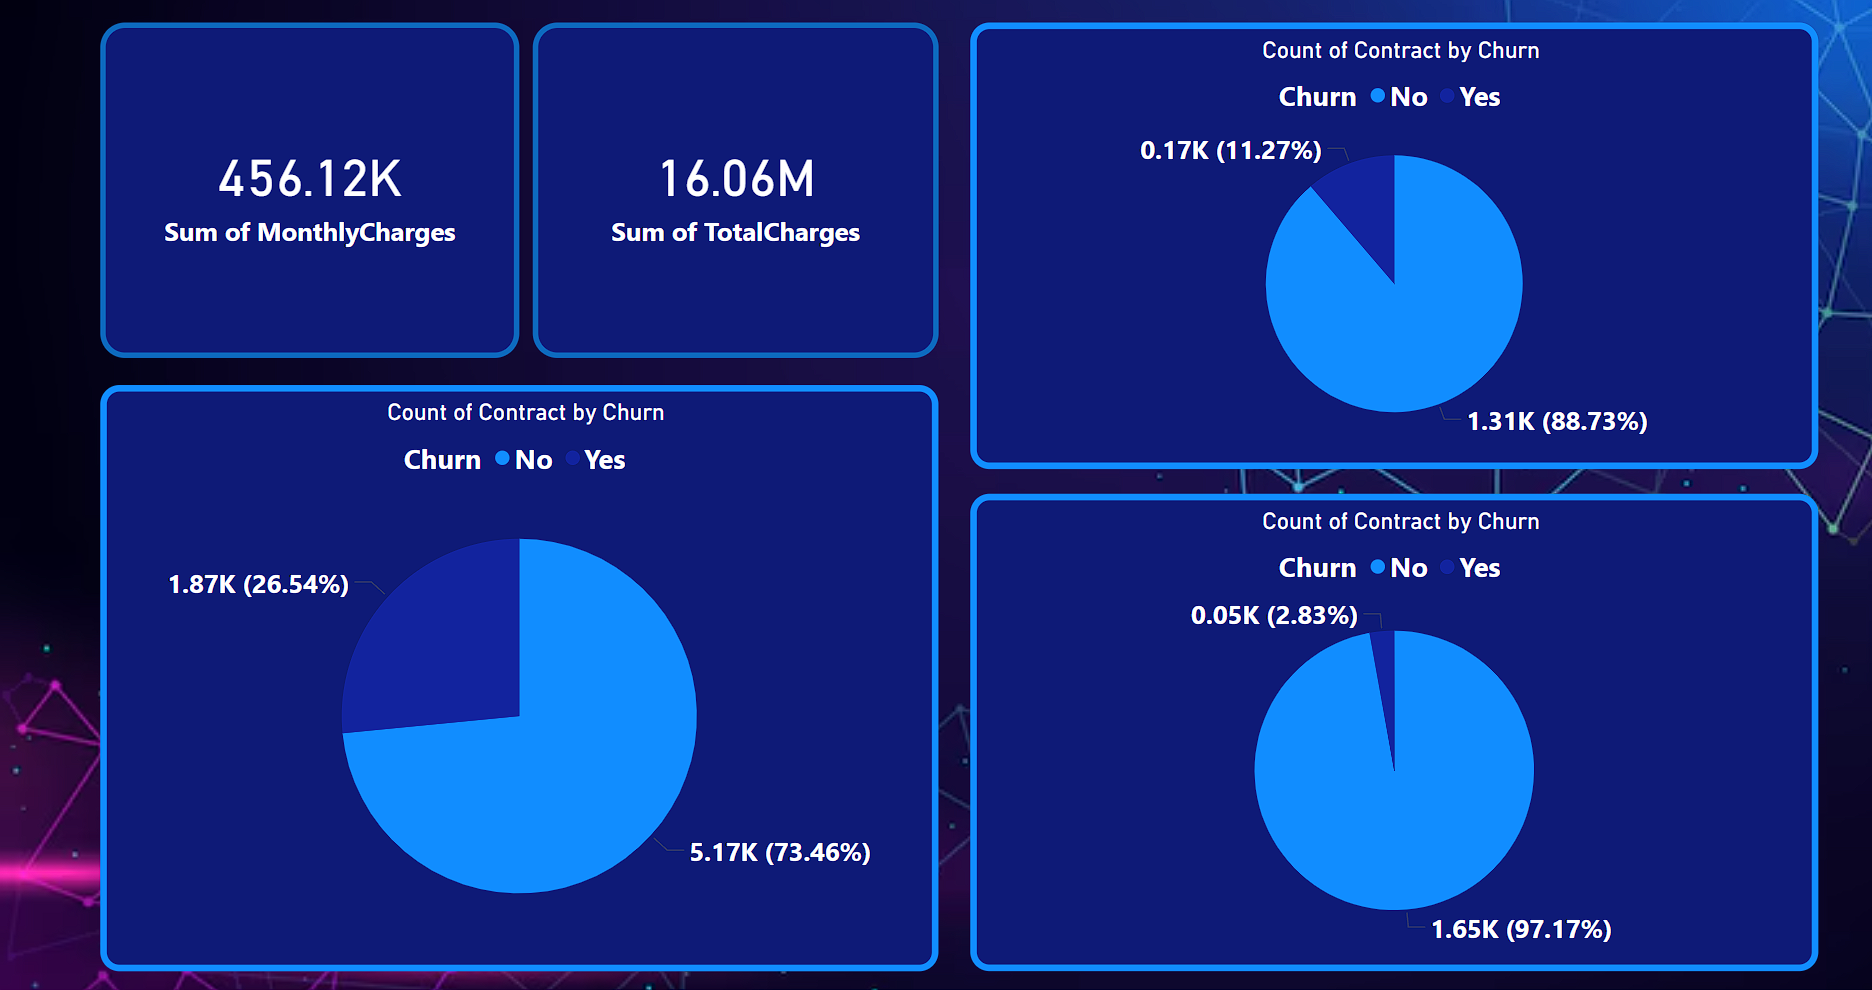

What the dashboard file says about the page in this screenshot:
{"tool":"powerbi","page":{"name":"Page 3","canvas":[1280,720],"ordinal":2},"visuals":[{"type":"pieChart","fields":{"Category":["Cutomer_churn_analysis.Churn"],"Y":["CountNonNull(Cutomer_churn_analysis.Contract)"]},"box":[29.9,279.9,609.5,426.7],"z":0},{"type":"pieChart","fields":{"Category":["Cutomer_churn_analysis.Churn"],"Y":["CountNonNull(Cutomer_churn_analysis.Contract)"]},"box":[663,16.2,617,324.7],"z":1000},{"type":"pieChart","fields":{"Category":["Cutomer_churn_analysis.Churn"],"Y":["CountNonNull(Cutomer_churn_analysis.Contract)"]},"box":[663,359.5,617,347.1],"z":2000},{"type":"card","fields":{"Values":["Sum(Cutomer_churn_analysis.MonthlyCharges)"]},"box":[29.9,16.2,304.8,243.8],"z":3000},{"type":"card","fields":{"Values":["Sum(Cutomer_churn_analysis.TotalCharges)"]},"box":[344.6,16.2,294.8,243.8],"z":4000}]}

Visuals, with their boxes in screenshot pixels (x1, y1, x2, y2):
pieChart - Cutomer_churn_analysis.Churn x CountNonNull(Cutomer_churn_analysis.Contract): select_region(109, 384, 935, 963)
pieChart - Cutomer_churn_analysis.Churn x CountNonNull(Cutomer_churn_analysis.Contract): select_region(967, 27, 1803, 467)
pieChart - Cutomer_churn_analysis.Churn x CountNonNull(Cutomer_churn_analysis.Contract): select_region(967, 492, 1803, 963)
card - Sum(Cutomer_churn_analysis.MonthlyCharges): select_region(109, 27, 522, 357)
card - Sum(Cutomer_churn_analysis.TotalCharges): select_region(535, 27, 935, 357)
